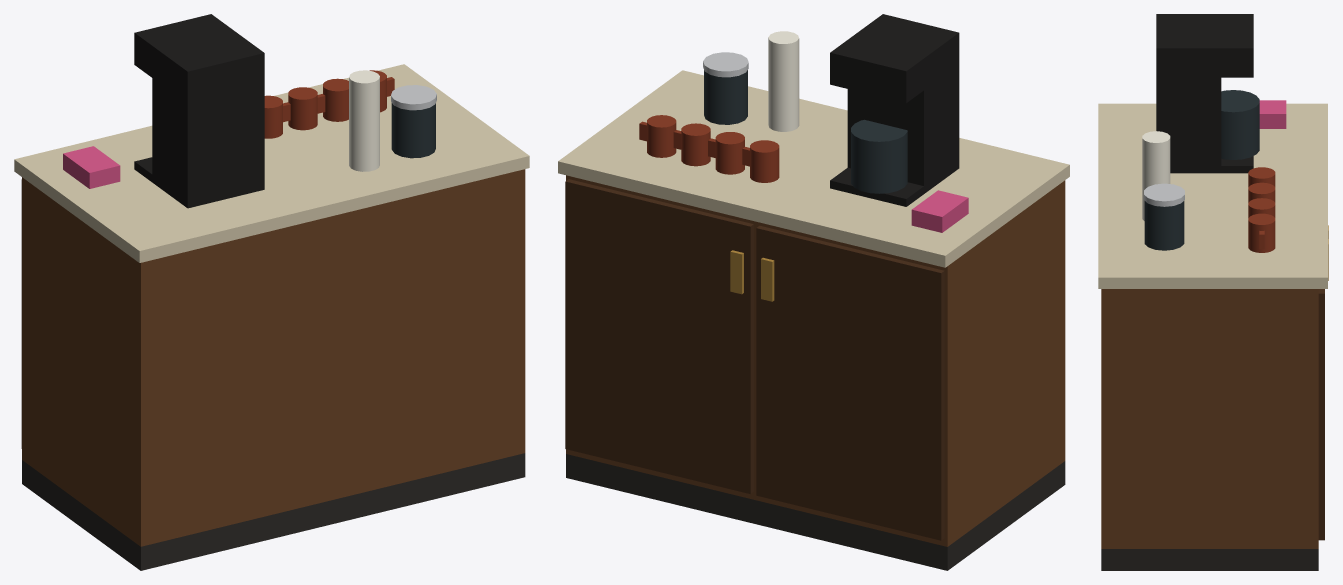
The model's file is SM_80s_CoffeeStation.glb.
The picture shows the model from 3 angles, left to right: view 1: azimuth 30°, elevation 25°; view 2: azimuth 150°, elevation 25°; view 3: azimuth 270°, elevation 25°; orthographic projection. The views are drawn at different scales.
Parts seen in each view (by area): view 1: SM_80s_CoffeeStation; view 2: SM_80s_CoffeeStation; view 3: SM_80s_CoffeeStation.
Boxes of the visible parts, bbox=[...] form: SM_80s_CoffeeStation: bbox=[14, 14, 529, 570]; SM_80s_CoffeeStation: bbox=[558, 14, 1069, 570]; SM_80s_CoffeeStation: bbox=[1098, 14, 1328, 570].
Size of the model in its own units: 1.34 by 1.5 by 0.748.
